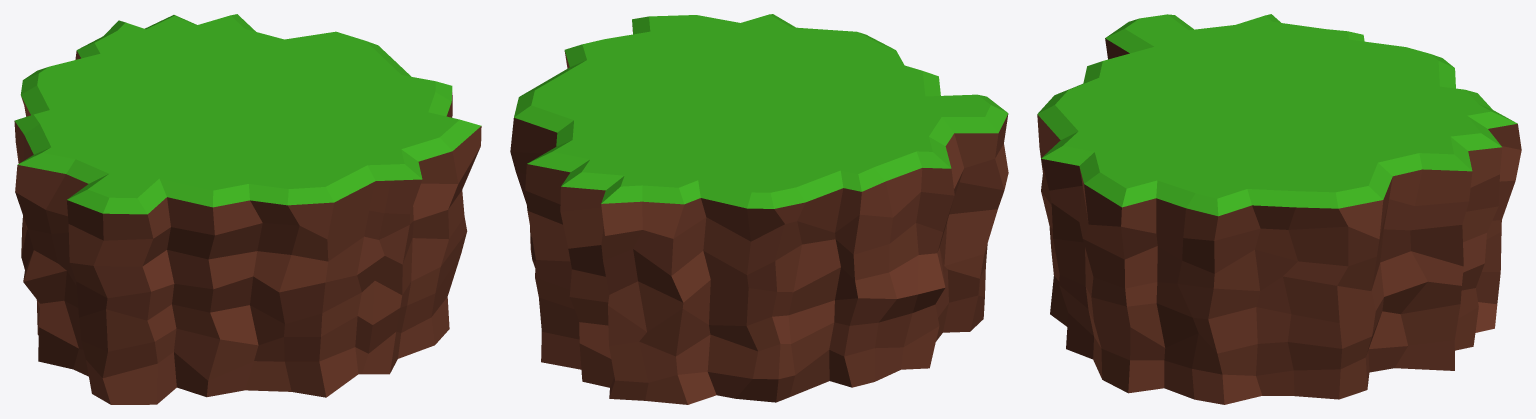
File: Backgroundebenen.fbx
3 renders of one model, left to right at view 1: azimuth 30°, elevation 25°; view 2: azimuth 150°, elevation 25°; view 3: azimuth 270°, elevation 25°, orthographic.
Parts seen in each view (by area): view 1: Plane; view 2: Plane; view 3: Plane.
Boxes of the visible parts, x1,y1,x2,y2 form: Plane: (14,14,481,404); Plane: (510,14,1008,404); Plane: (1037,14,1521,404).
Bounding box in the file's own units: 613 × 301 × 621.
